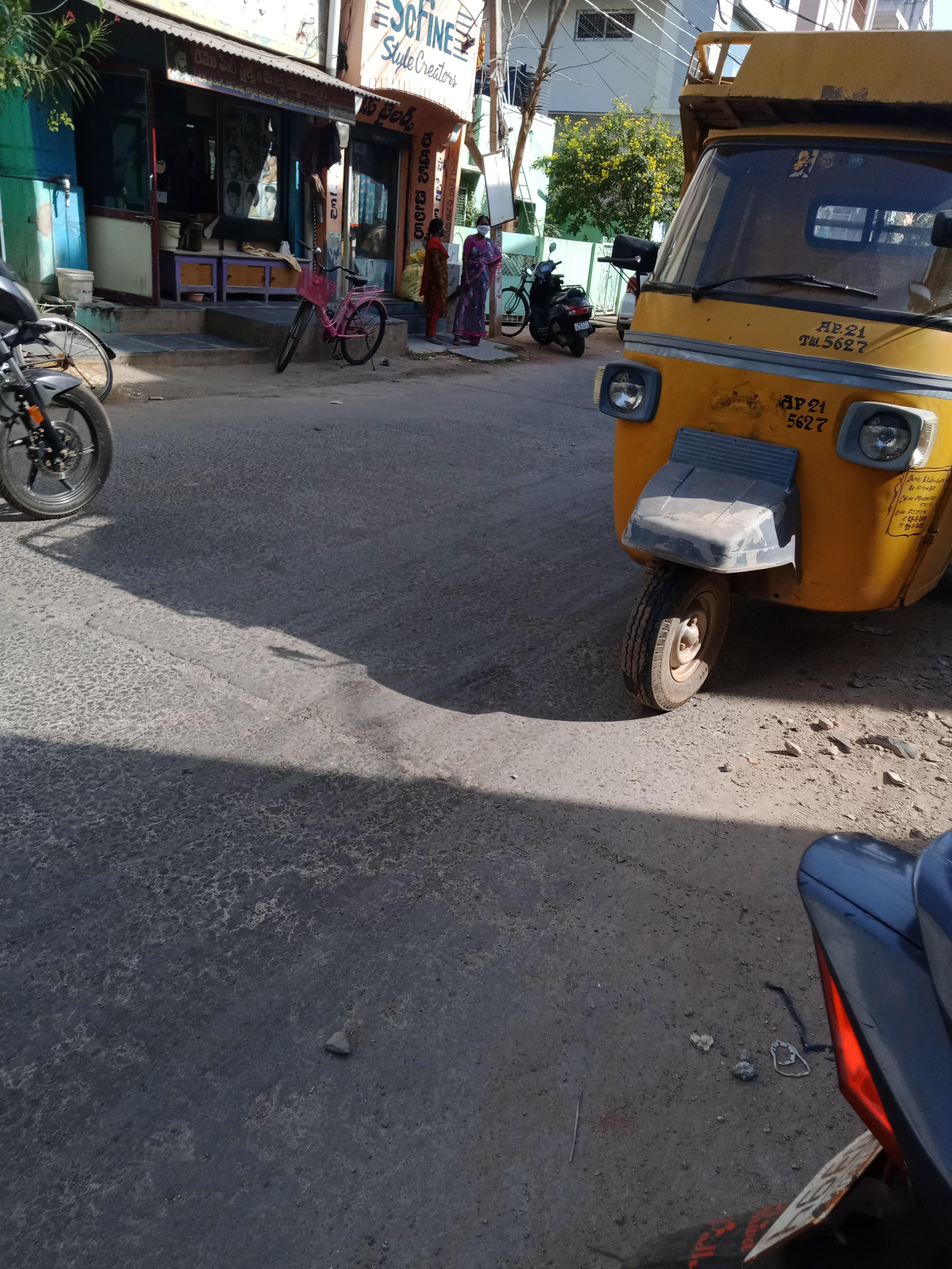Non-emergency: (563, 0, 952, 784)
